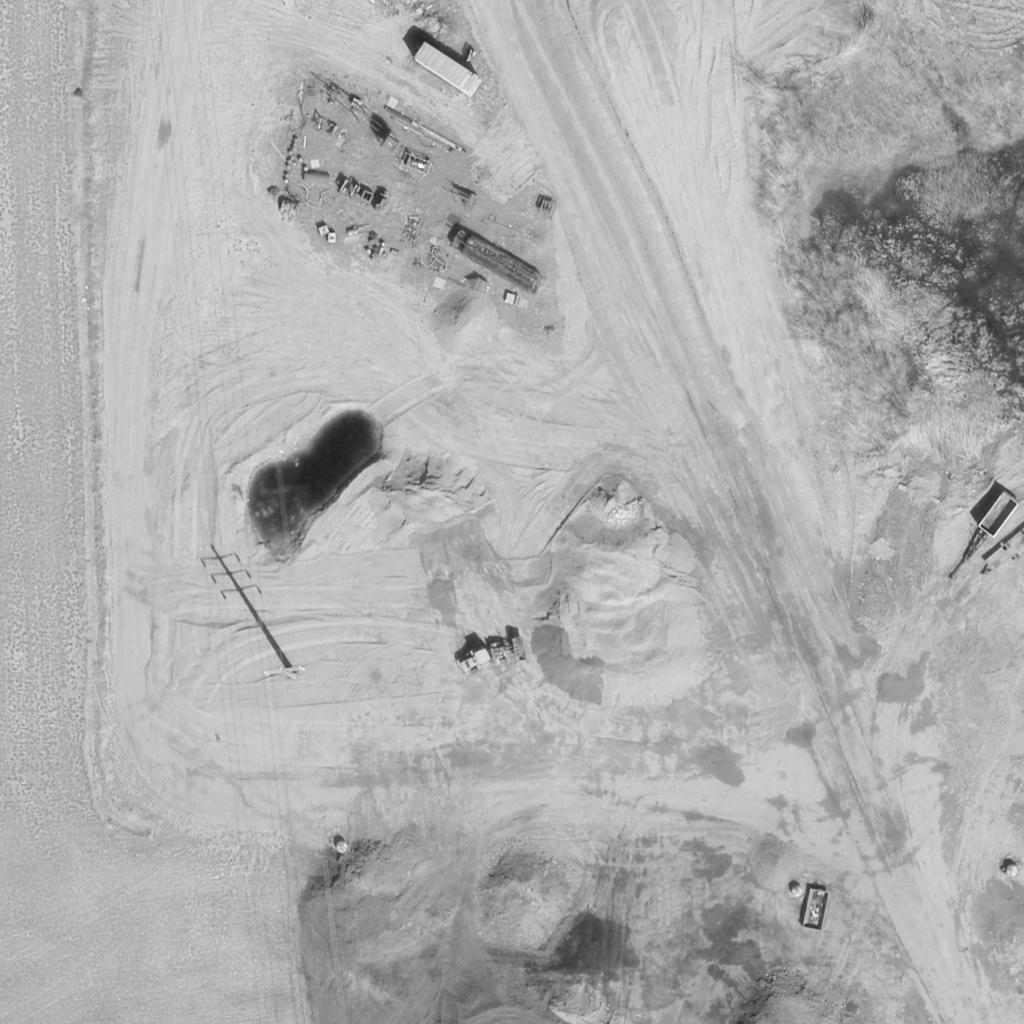vehicle: (458, 633, 528, 679)
